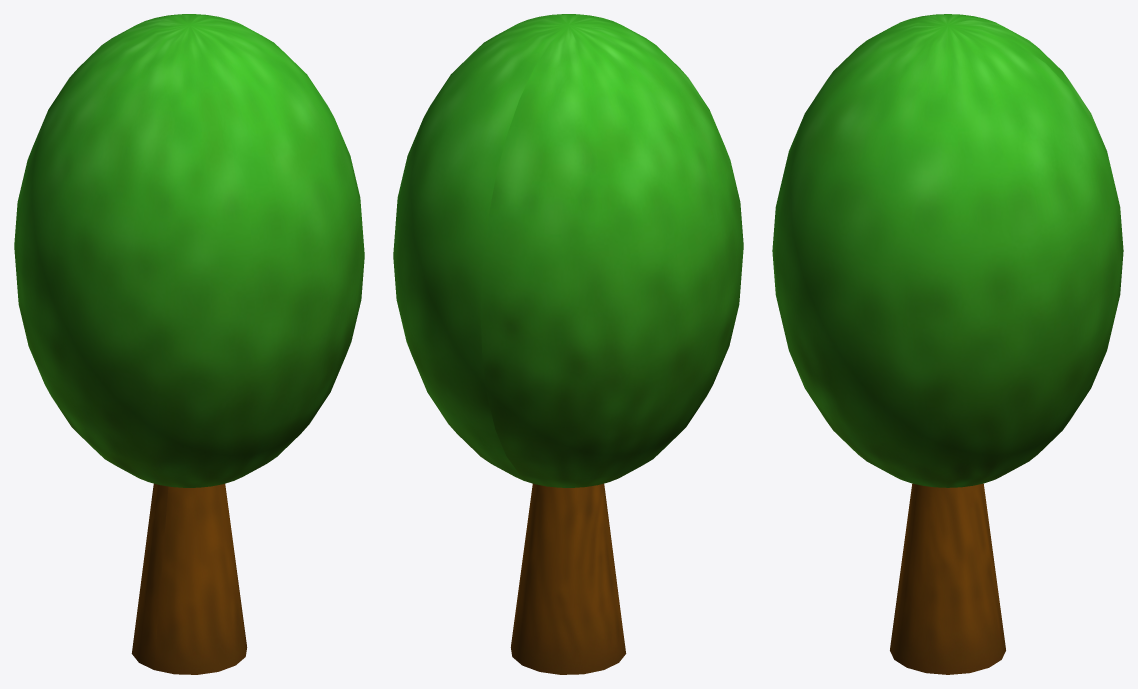
File: tree_01.FBX
3 renders of one model, left to right at view 1: azimuth 30°, elevation 25°; view 2: azimuth 150°, elevation 25°; view 3: azimuth 270°, elevation 25°, orthographic.
Visible parts, largest first — view 1: Tree; view 2: Tree; view 3: Tree.
Boxes of the visible parts, <box> form: Tree: <box>14,14,364,674</box>; Tree: <box>393,14,743,674</box>; Tree: <box>772,14,1123,674</box>.
Bounding box in the file's own units: 143 × 280 × 143.
1 material, 1 textured.
